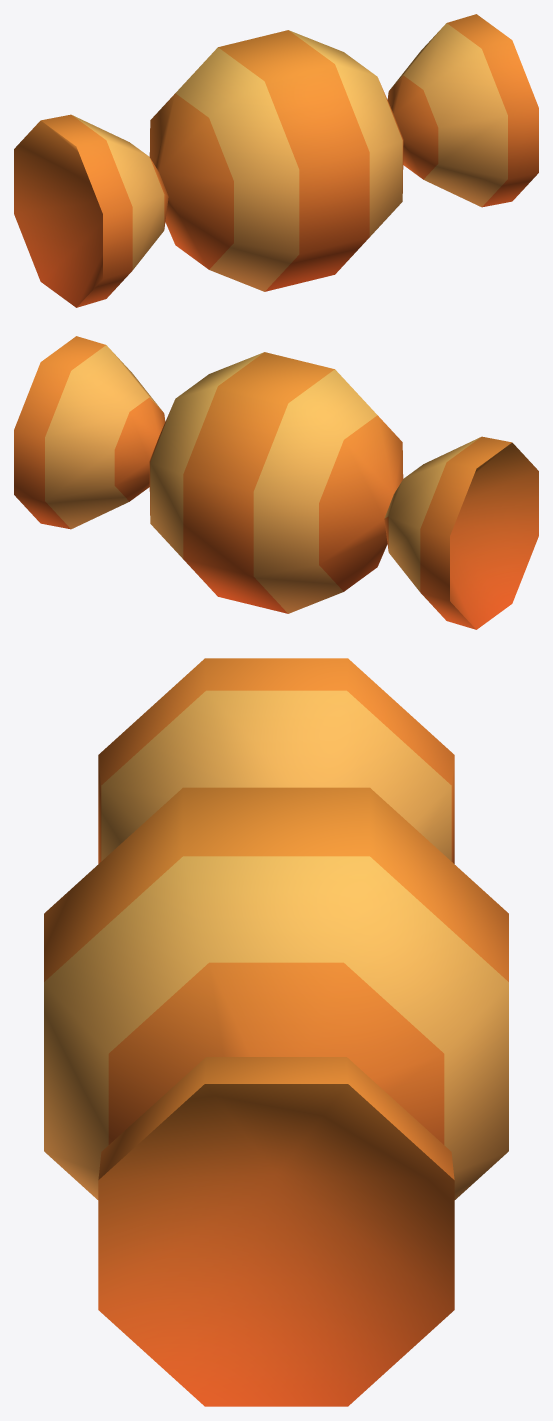
The model's file is candy_orange_B.gltf.
3 renders of one model, top to bottom at view 1: azimuth 30°, elevation 25°; view 2: azimuth 150°, elevation 25°; view 3: azimuth 270°, elevation 25°, orthographic. The views are drawn at different scales.
Visible parts, largest first — view 1: candy_orange_B; view 2: candy_orange_B; view 3: candy_orange_B.
Boxes of the visible parts, x1=… form: candy_orange_B: x1=14, y1=14, x2=538, y2=307; candy_orange_B: x1=14, y1=336, x2=538, y2=629; candy_orange_B: x1=44, y1=658, x2=508, y2=1406.
Bounding box in the file's own units: 0.65 × 0.3 × 0.3.
Materials: 1 (1 with a texture image).
